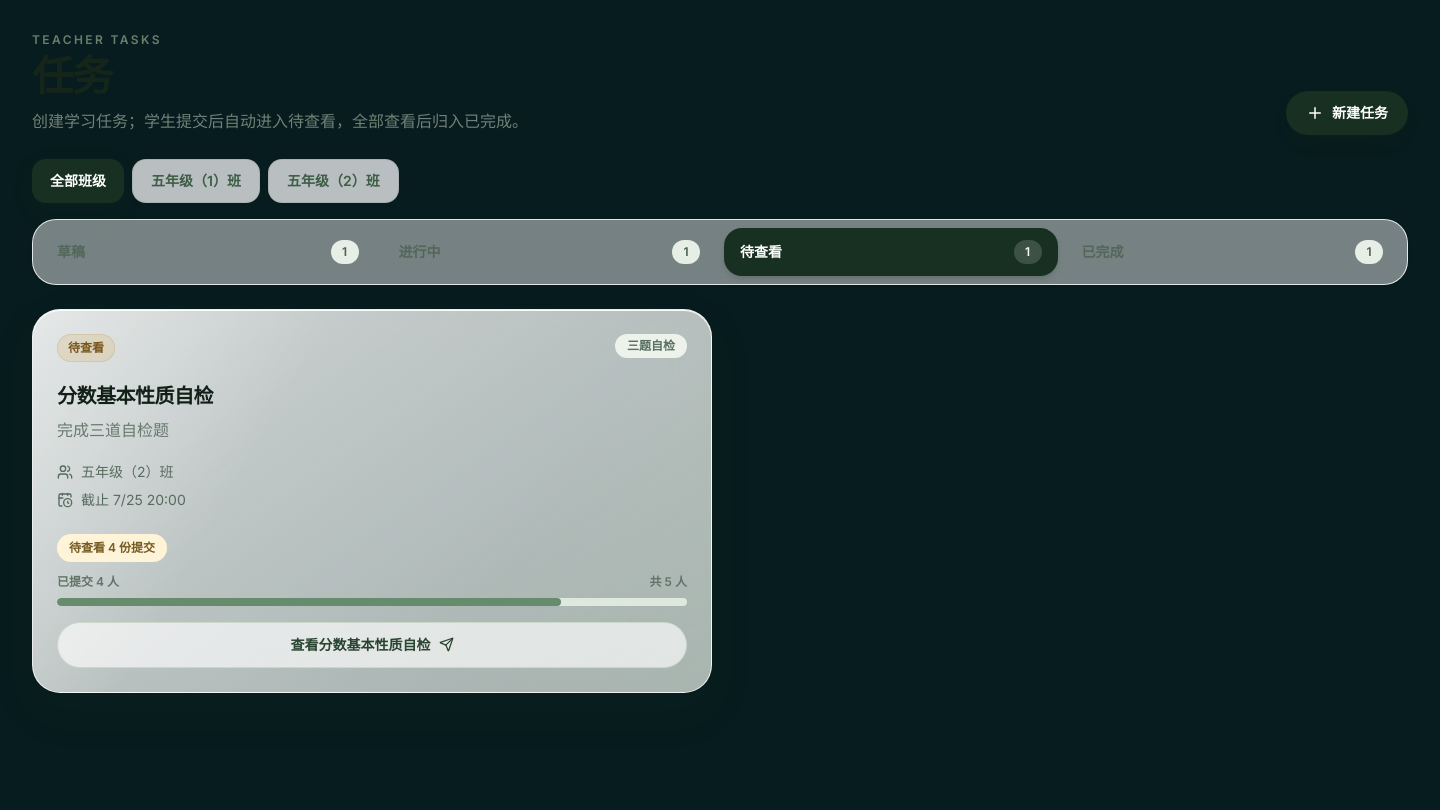
Test: TasksPage › filters 草稿、进行中、待查看和已完成 tasks and opens completion details
Expected: the button "草稿 1" is shown, x1=41 y1=228 x2=374 y2=276
Expected: the button "进行中 1" is shown, x1=382 y1=228 x2=716 y2=276
Step 1. Click the button "待查看 1" → {"x": 761, "y": 251}, box x1=724 y1=228 x2=1058 y2=276
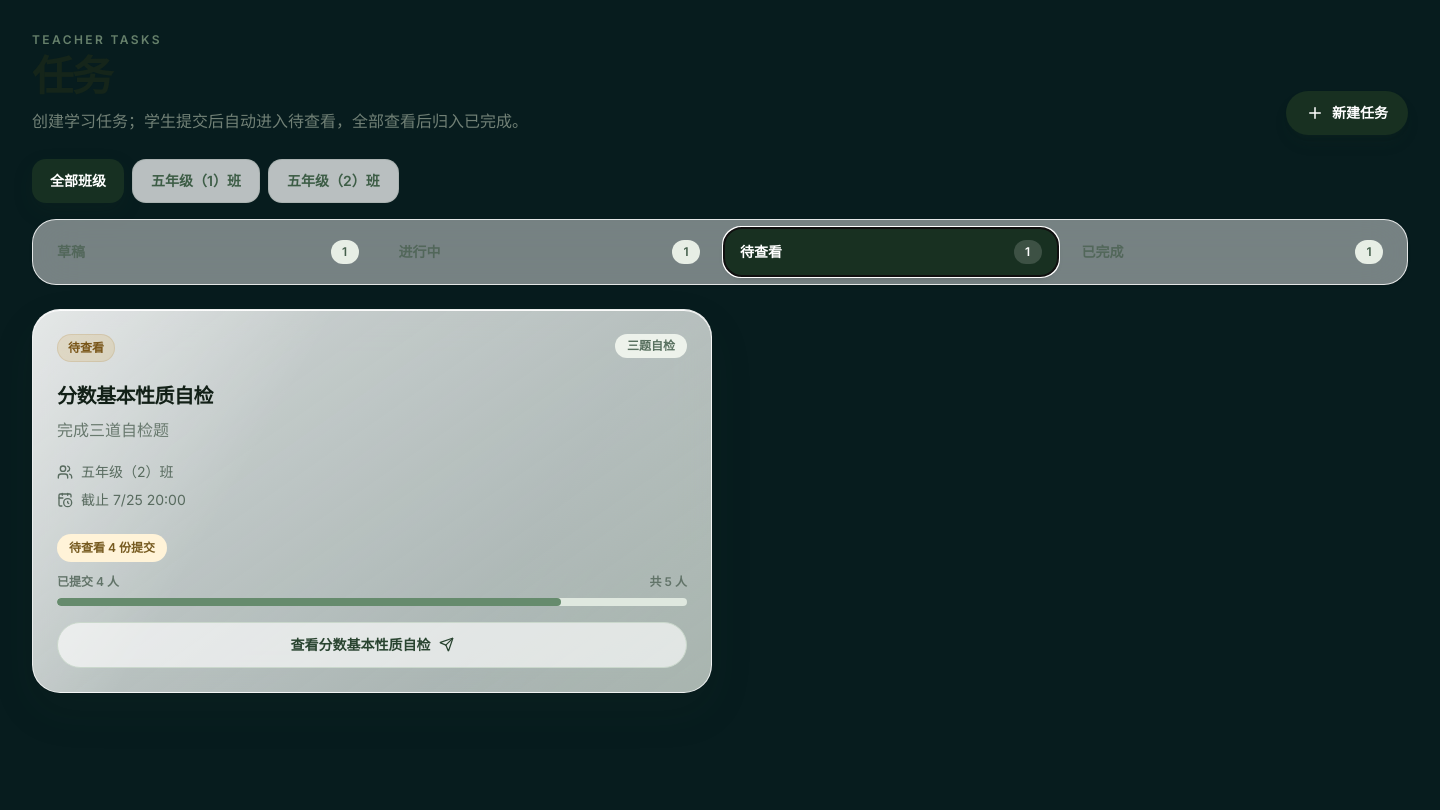
Expected: the heading "分数基本性质自检" is shown, x1=57 y1=384 x2=213 y2=408
Step 2. Click the button "查看分数基本性质自检" → {"x": 372, "y": 645}, box x1=57 y1=622 x2=687 y2=668
(page scrolled)
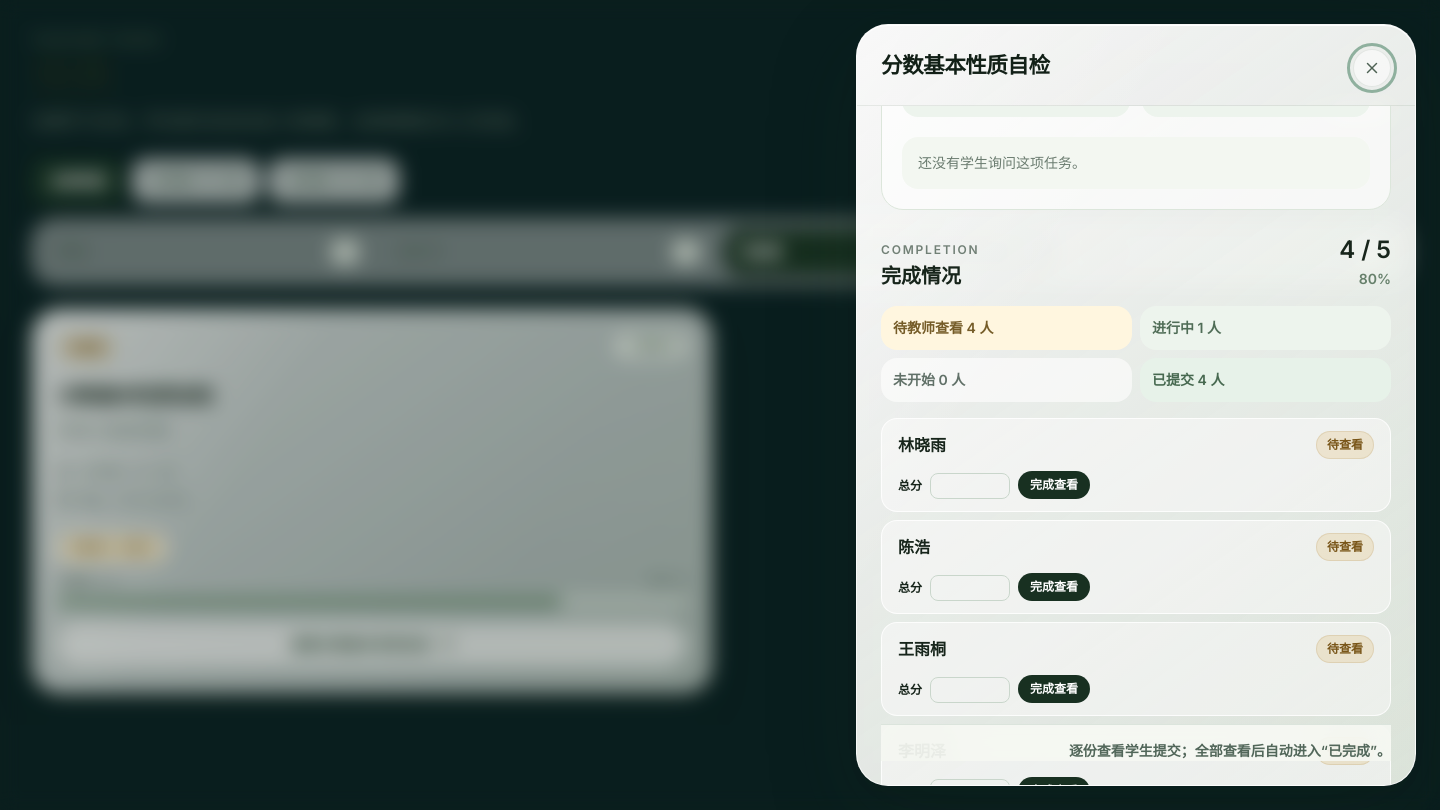
Now the text "4 / 5" is shown, box x1=1339 y1=234 x2=1391 y2=266
Now the text "80%" is shown, box x1=1359 y1=270 x2=1391 y2=287
Now the text "待教师查看 4 人" is shown, box x1=881 y1=306 x2=1132 y2=350
